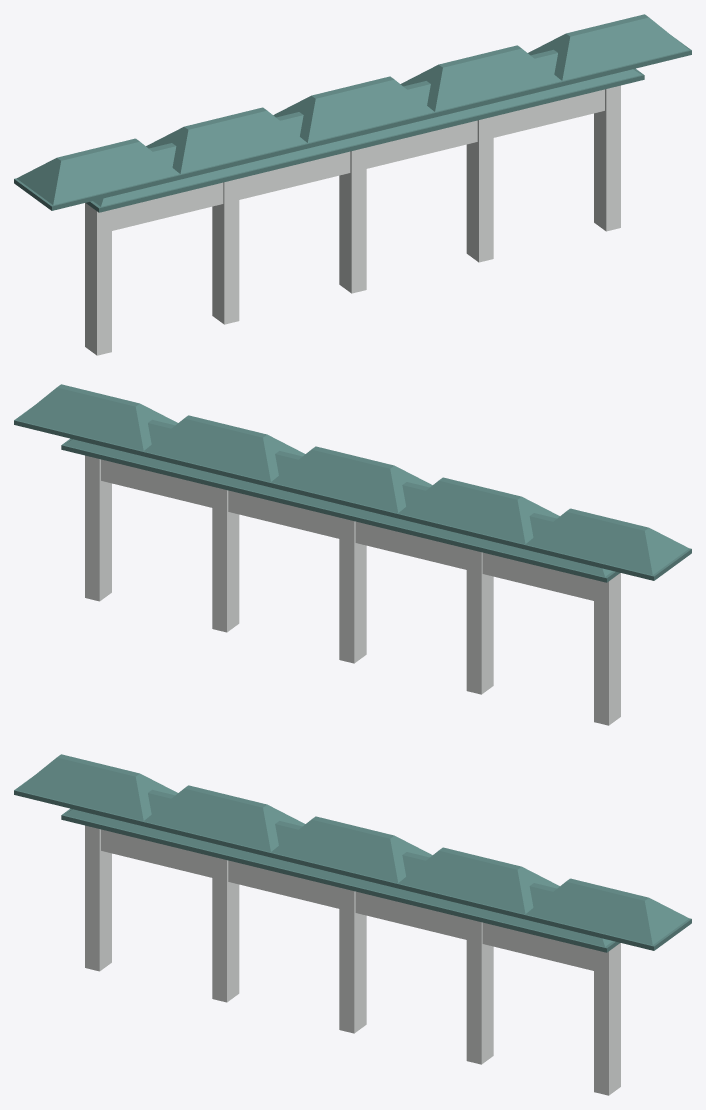
The model's file is liberty.glb.
The picture shows the model from 3 angles, top to bottom: view 1: azimuth 30°, elevation 25°; view 2: azimuth 150°, elevation 25°; view 3: azimuth 330°, elevation 25°; orthographic projection.
Visible parts, largest first — view 1: liberty; view 2: liberty; view 3: liberty.
Part boxes in pixels (x1=…): liberty: x1=14, y1=14, x2=691, y2=355; liberty: x1=14, y1=384, x2=691, y2=725; liberty: x1=14, y1=754, x2=691, y2=1095.
Bounding box in the file's own units: 30.18 × 9 × 3.09.
